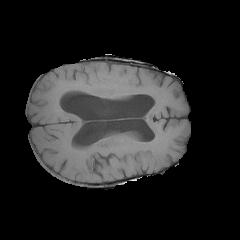glioma: (57, 78, 158, 100)
